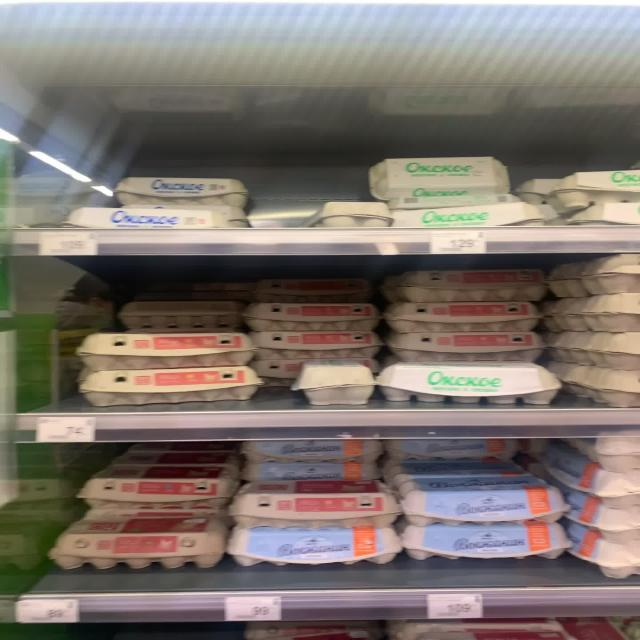egg box: (46, 513, 232, 567), (388, 474, 568, 525), (229, 476, 400, 526), (375, 359, 556, 406), (76, 461, 238, 510), (217, 521, 402, 563), (398, 520, 567, 562), (76, 367, 264, 402), (74, 335, 260, 370), (368, 158, 513, 200), (384, 300, 540, 336), (384, 330, 544, 361), (114, 173, 245, 210), (66, 208, 231, 237), (388, 205, 558, 233), (245, 302, 382, 333), (252, 333, 384, 359)
